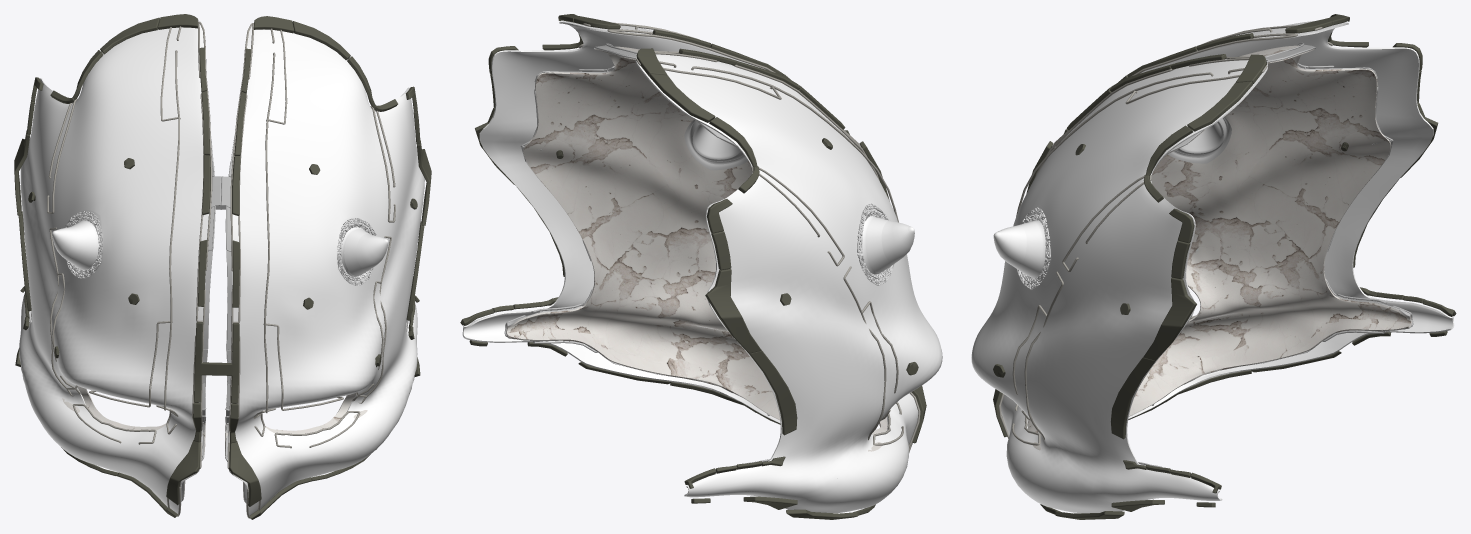
The model's file is Maske_Texturebased_Patch_1.fbx.
3 views of the same model, side by side, from view 1: azimuth 30°, elevation 25°; view 2: azimuth 150°, elevation 25°; view 3: azimuth 270°, elevation 25° (orthographic). The views are drawn at different scales.
Visible parts, largest first — view 1: Frontmaske.002, Maske_Rand.002, Masken_Streben.002, Maske_Rand_Hinten.002, Maske_Details.002, Mask_Hinten.002, Schrauben.002, Maske_Streben_Hinten.002; view 2: Frontmaske.002, Mask_Hinten.002, Maske_Rand.002, Masken_Streben.002, Maske_Streben_Hinten.002, Maske_Details.002, Maske_Rand_Hinten.002; view 3: Frontmaske.002, Mask_Hinten.002, Maske_Rand.002, Masken_Streben.002, Maske_Streben_Hinten.002, Maske_Rand_Hinten.002, Maske_Details.002.
Part boxes in pixels (bbox=[...]): Frontmaske.002: bbox=[19, 24, 424, 515]; Maske_Rand.002: bbox=[14, 14, 431, 519]; Masken_Streben.002: bbox=[47, 21, 395, 518]; Maske_Rand_Hinten.002: bbox=[181, 135, 406, 503]; Maske_Details.002: bbox=[65, 211, 376, 285]; Mask_Hinten.002: bbox=[31, 158, 407, 501]; Schrauben.002: bbox=[28, 158, 417, 367]; Maske_Streben_Hinten.002: bbox=[31, 160, 407, 500]; Frontmaske.002: bbox=[462, 21, 942, 512]; Mask_Hinten.002: bbox=[506, 46, 887, 451]; Maske_Rand.002: bbox=[460, 14, 926, 519]; Masken_Streben.002: bbox=[578, 22, 920, 452]; Maske_Streben_Hinten.002: bbox=[504, 43, 770, 463]; Maske_Details.002: bbox=[857, 203, 894, 285]; Maske_Rand_Hinten.002: bbox=[506, 45, 837, 478]; Frontmaske.002: bbox=[971, 21, 1454, 513]; Mask_Hinten.002: bbox=[1027, 45, 1411, 450]; Maske_Rand.002: bbox=[993, 14, 1456, 519]; Masken_Streben.002: bbox=[998, 25, 1332, 445]; Maske_Streben_Hinten.002: bbox=[1138, 42, 1413, 467]; Maske_Rand_Hinten.002: bbox=[1129, 44, 1411, 465]; Maske_Details.002: bbox=[1016, 207, 1050, 289].
Size of the model in its own units: 244 by 250 by 232.
8 materials, 3 textured.
